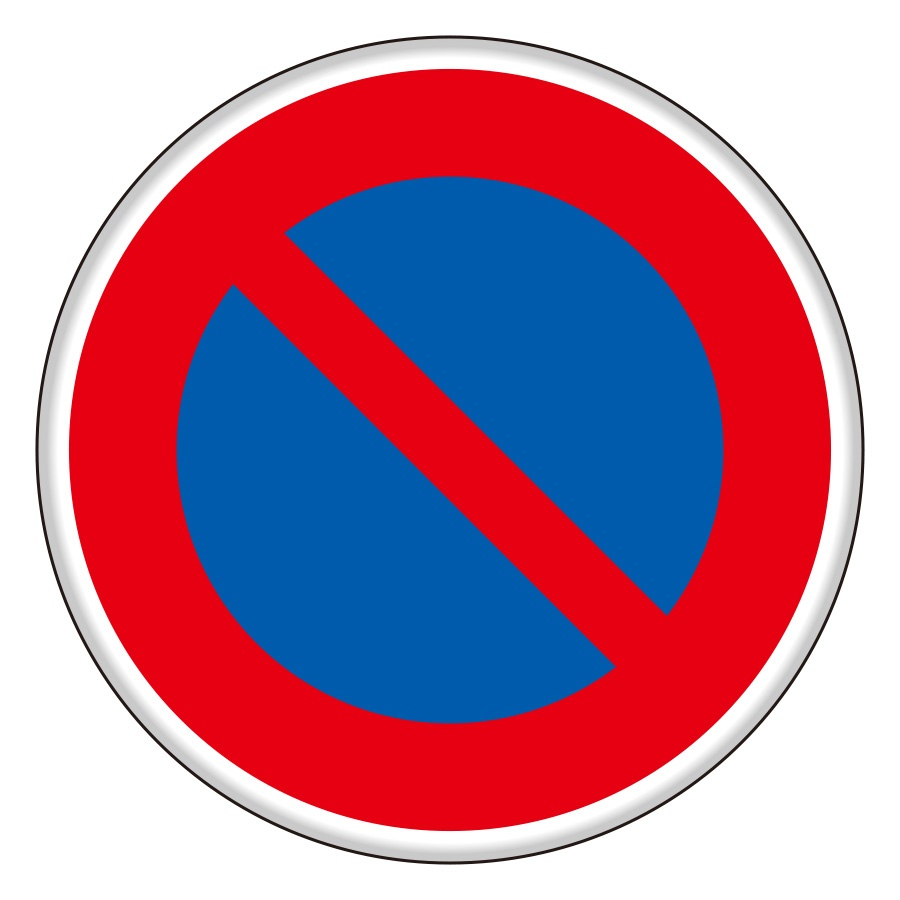Prohibition_sign: (29, 27, 878, 870)
